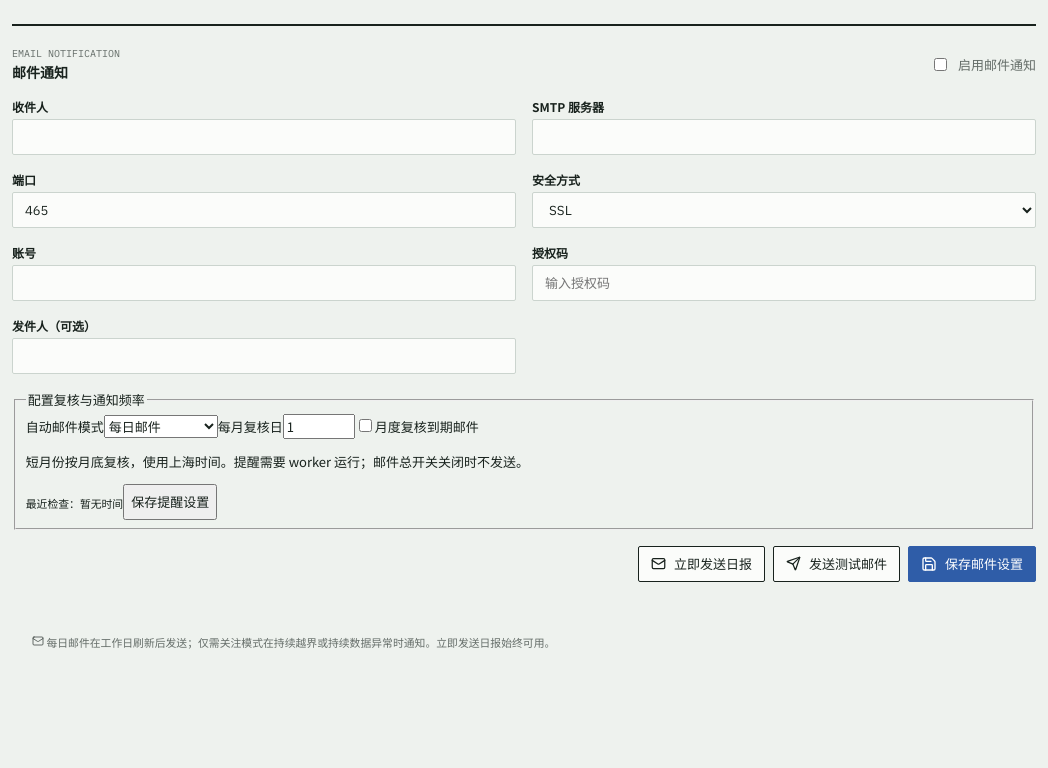
sends a test email and shows the result
expect the heading "邮件通知" is shown: met, box [12, 62, 68, 82]
Click the button "发送测试邮件".
click(836, 564)  # box [773, 546, 900, 582]
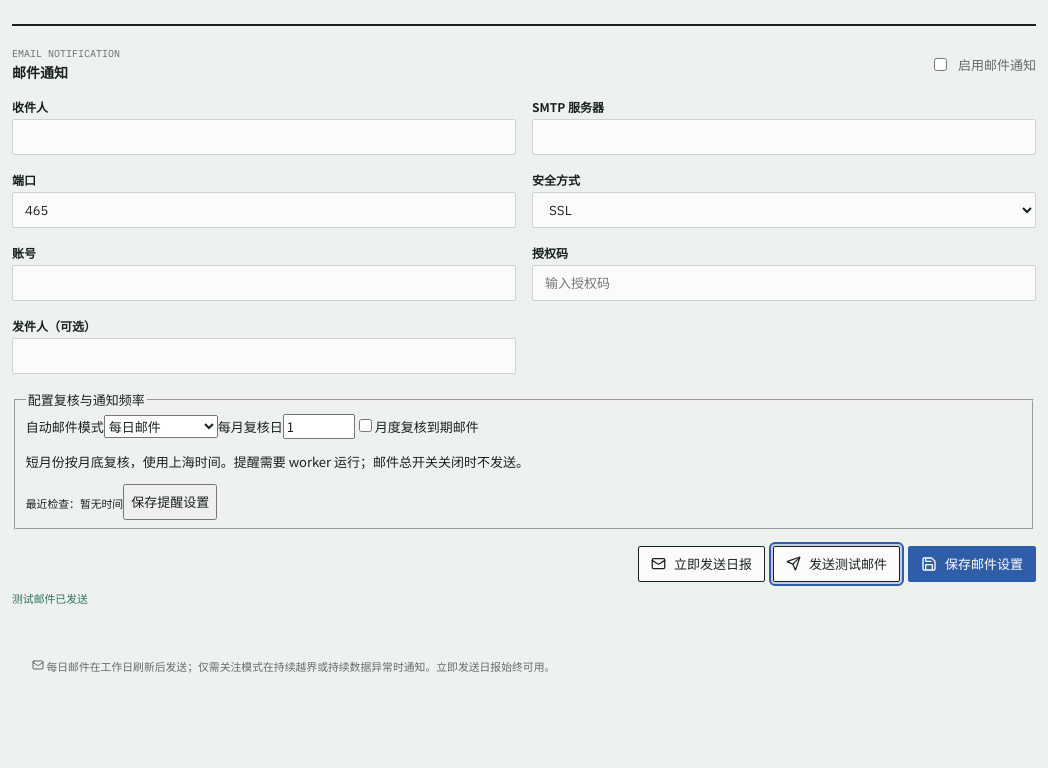
expect the text "测试邮件已发送" is shown: met, box [12, 590, 88, 606]
